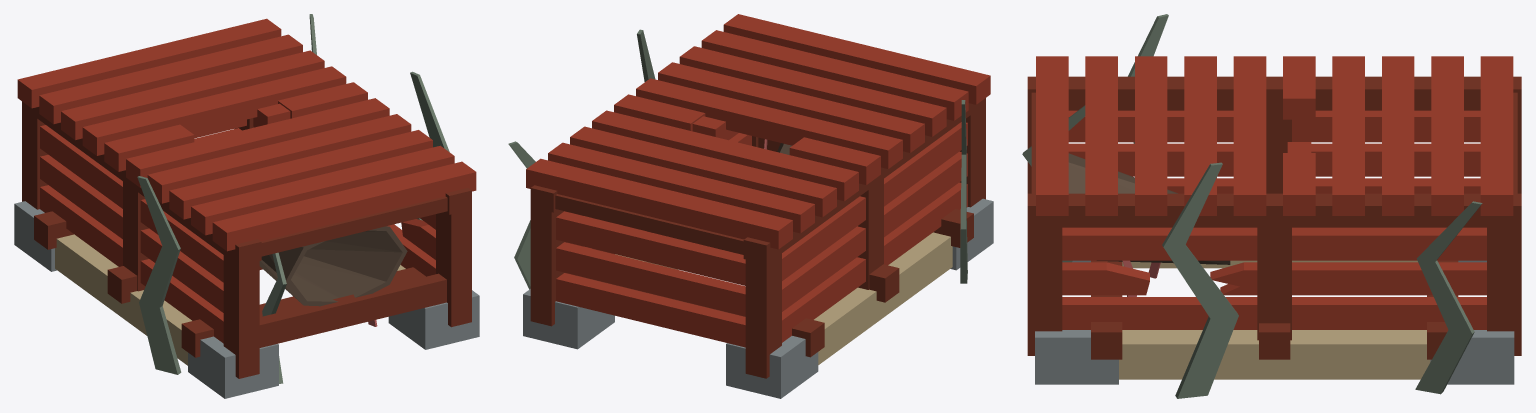
Rendered from lobster-trap-8a3f07.glb.
3 renders of one model, left to right at view 1: azimuth 30°, elevation 25°; view 2: azimuth 150°, elevation 25°; view 3: azimuth 270°, elevation 25°, orthographic. The views are drawn at different scales.
Visible parts, largest first — view 1: lobster-trap, weed-c, weed-a, weed-d; view 2: lobster-trap, weed-c, weed-b, weed-a; view 3: lobster-trap, weed-a, weed-b, weed-c.
Boxes of the visible parts, x1,y1,x2,y2 form: lobster-trap: (14, 18, 479, 398); weed-c: (137, 176, 181, 374); weed-a: (410, 71, 449, 220); weed-d: (262, 252, 286, 383); lobster-trap: (523, 14, 993, 398); weed-c: (960, 100, 967, 283); weed-b: (508, 141, 535, 289); weed-a: (637, 29, 655, 81); lobster-trap: (1027, 56, 1521, 384); weed-a: (1162, 162, 1238, 398); weed-b: (1415, 201, 1482, 394); weed-c: (1128, 14, 1168, 143).
Bounding box in the file's own units: 0.834 × 0.5113 × 1.01.
